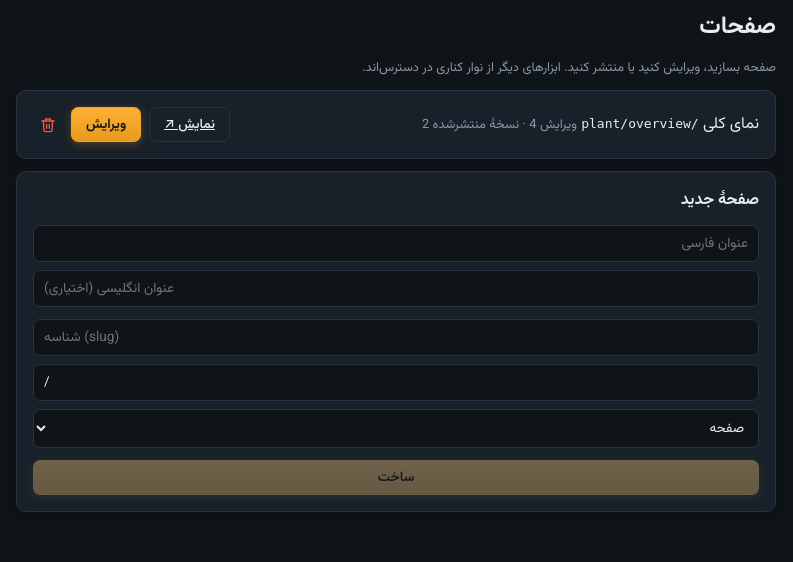
deleting a page › asks for confirmation, sends If-Match and refreshes the list
Click the button named "حذف صفحهٔ" at (48, 124), box [33,110,63,140]
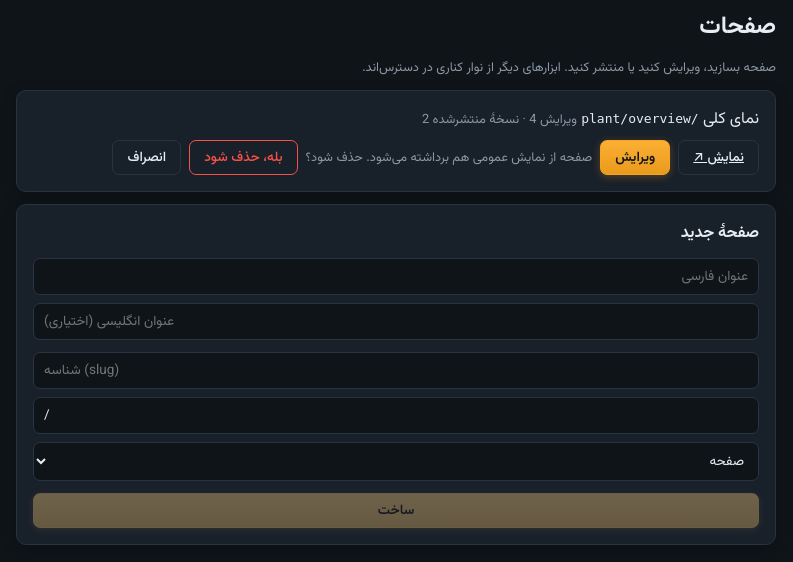
Check: the text "صفحه از نمایش عمومی هم برداشته می‌شود. حذف شود؟" is shown, box [306,148,592,168]
Click the button "بله، حذف شود" at (243, 158), box [189,140,298,175]
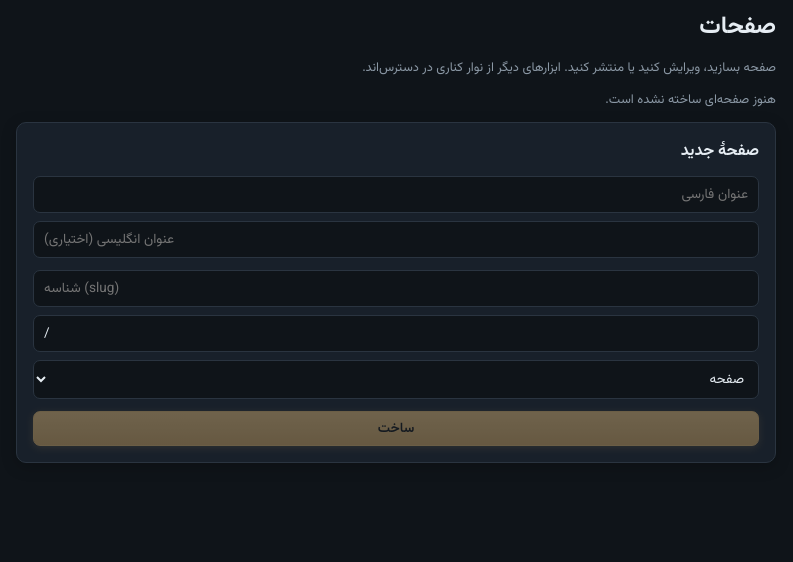
Check: the text "/plant/overview" is gone
